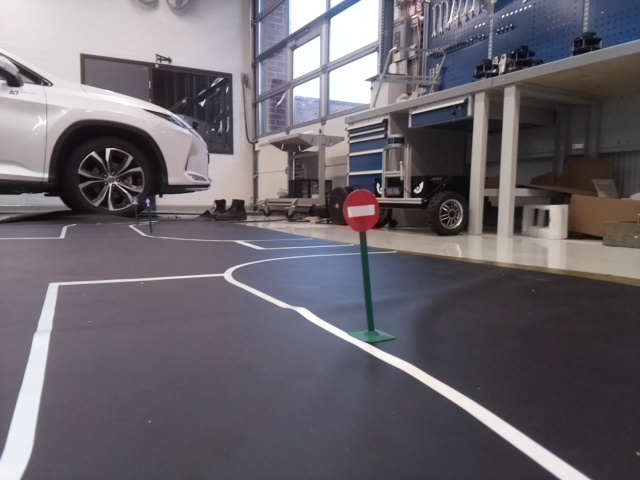NoEntry: (342, 190, 380, 230)
OneWay: (142, 196, 153, 208)
